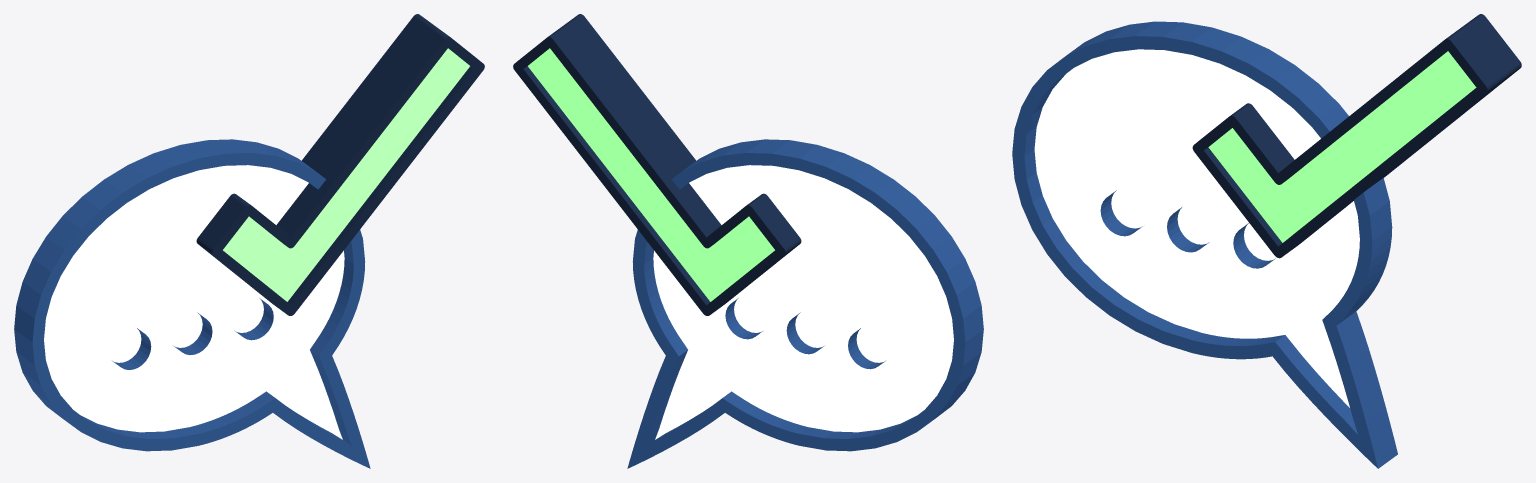
Rendered from l-icons-story-check.glb.
3 views of the same model, side by side, from view 1: azimuth 30°, elevation 25°; view 2: azimuth 150°, elevation 25°; view 3: azimuth 330°, elevation 25° (orthographic). The views are drawn at different scales.
Visible parts, largest first — view 1: Icon_Story, Checkmarkx; view 2: Icon_Story, Checkmarkx; view 3: Icon_Story, Checkmarkx.
Boxes of the visible parts, x1=… form: Icon_Story: x1=14, y1=139, x2=370, y2=468; Checkmarkx: x1=196, y1=14, x2=484, y2=315; Icon_Story: x1=627, y1=139, x2=983, y2=468; Checkmarkx: x1=513, y1=14, x2=801, y2=315; Icon_Story: x1=1012, y1=21, x2=1397, y2=468; Checkmarkx: x1=1192, y1=14, x2=1521, y2=258.
Bounding box in the file's own units: 0.7321 × 0.6579 × 0.0897.
